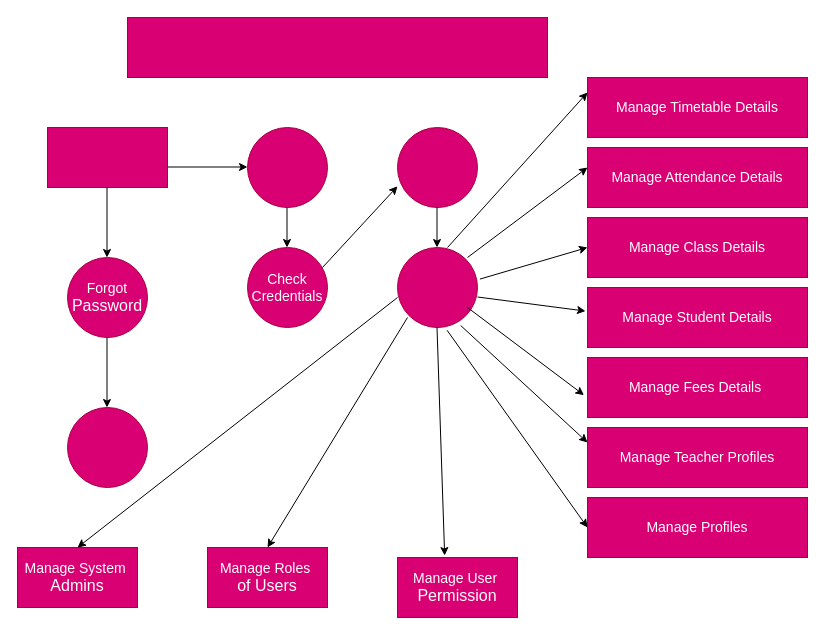
Image size: 825x635. Some labels were removed from this diagram. Here are the shapes that lost their labels. From the top down, the centre of each, then its label:
At point 337,47: "Student Information System".
At point 107,157: "Admin".
At point 287,167: "Login to Systems".
At point 437,167: "Check Roles of Access".
At point 437,287: "Manage Modules".
At point 107,447: "Send Email to User".
